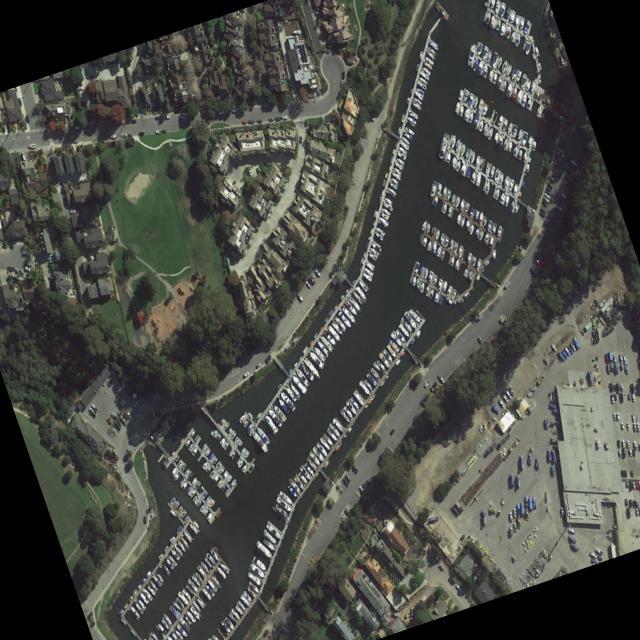large-vehicle: (550, 451, 557, 464), (480, 510, 486, 525), (567, 534, 575, 543), (519, 501, 524, 515), (518, 456, 523, 470), (545, 450, 551, 461), (514, 475, 519, 488), (531, 497, 536, 509), (523, 495, 528, 507), (515, 504, 520, 515), (543, 418, 548, 428), (570, 543, 577, 550), (528, 497, 532, 509), (534, 457, 538, 469), (527, 453, 531, 464), (550, 465, 554, 476), (509, 473, 512, 486)
ship: (250, 430, 268, 454), (303, 357, 321, 380), (436, 131, 450, 160), (254, 540, 273, 560), (289, 374, 306, 395), (278, 390, 295, 411), (307, 349, 323, 369), (326, 324, 342, 344), (254, 425, 270, 445), (433, 1, 449, 21), (263, 413, 278, 434), (264, 522, 281, 540), (294, 367, 309, 387), (341, 305, 356, 325), (275, 496, 292, 513), (249, 562, 265, 580), (337, 310, 352, 329), (267, 408, 282, 427), (261, 528, 277, 545), (251, 556, 267, 573), (246, 570, 262, 587), (402, 311, 417, 329), (318, 334, 333, 352), (300, 363, 314, 382), (272, 403, 286, 422), (343, 300, 358, 317), (273, 503, 288, 519), (465, 44, 475, 68), (389, 331, 403, 348), (322, 329, 336, 346), (347, 296, 361, 313), (307, 449, 320, 467), (400, 316, 413, 334), (310, 446, 324, 462), (278, 490, 292, 506), (377, 352, 390, 369), (321, 431, 334, 448), (315, 338, 328, 355), (312, 345, 325, 362), (276, 397, 289, 414), (354, 285, 367, 302), (261, 538, 275, 553), (357, 380, 370, 396), (351, 390, 364, 406), (344, 400, 357, 416), (331, 418, 344, 434), (327, 422, 340, 438), (314, 441, 327, 457), (397, 323, 410, 339), (333, 315, 346, 331), (330, 320, 343, 336), (298, 465, 311, 481), (325, 427, 338, 442), (175, 623, 188, 638), (338, 408, 350, 424), (387, 337, 399, 353), (408, 308, 420, 324), (394, 328, 406, 344), (288, 383, 300, 399), (351, 290, 363, 306), (292, 475, 304, 491), (289, 479, 301, 495), (186, 577, 198, 593), (369, 367, 381, 382), (365, 372, 377, 387), (342, 405, 354, 420), (318, 436, 330, 451), (284, 387, 296, 402), (195, 564, 207, 579), (178, 617, 190, 632), (176, 591, 188, 606), (203, 583, 215, 598), (381, 349, 393, 363), (305, 457, 317, 471), (247, 580, 259, 594), (238, 594, 250, 608), (189, 606, 200, 621), (141, 587, 152, 602), (375, 358, 386, 372), (385, 344, 396, 358), (303, 462, 314, 476), (296, 471, 307, 485), (286, 484, 297, 498), (223, 616, 234, 630), (210, 575, 221, 589), (199, 561, 210, 575), (205, 552, 216, 566), (208, 548, 219, 562), (215, 566, 226, 580), (229, 607, 240, 621), (168, 605, 179, 619), (174, 596, 185, 610), (178, 535, 189, 549), (220, 621, 231, 634), (218, 562, 229, 575), (161, 613, 172, 626), (206, 579, 217, 592), (129, 605, 139, 619), (133, 601, 143, 615), (147, 578, 157, 592), (176, 540, 186, 554), (428, 180, 436, 197), (490, 51, 498, 68), (426, 46, 438, 57), (349, 397, 359, 410), (363, 379, 373, 392), (156, 622, 166, 635), (242, 590, 252, 603), (236, 599, 246, 612), (185, 610, 195, 623), (191, 600, 201, 613), (181, 588, 191, 601), (173, 544, 183, 557), (169, 548, 179, 561), (194, 596, 204, 609), (190, 574, 200, 587), (201, 587, 211, 600), (181, 530, 191, 543), (448, 134, 456, 150), (488, 13, 496, 29), (504, 82, 512, 98), (522, 19, 530, 35), (523, 40, 531, 56), (519, 73, 527, 89), (520, 130, 528, 146), (486, 125, 494, 141), (374, 226, 385, 237), (357, 280, 367, 292), (203, 557, 213, 569), (246, 586, 256, 598), (233, 604, 243, 616), (173, 628, 183, 640), (136, 598, 146, 610), (138, 592, 148, 604), (171, 600, 181, 612), (146, 585, 156, 597), (167, 555, 177, 567), (184, 584, 194, 596), (508, 9, 516, 24), (503, 24, 511, 39), (514, 89, 522, 104), (475, 60, 483, 75), (475, 42, 483, 57), (480, 45, 488, 60), (499, 59, 507, 74), (483, 179, 490, 195), (453, 138, 460, 154), (458, 162, 466, 176), (476, 118, 484, 132), (498, 2, 505, 18), (476, 98, 483, 114), (534, 104, 542, 118), (513, 32, 520, 48), (418, 71, 429, 81), (378, 216, 388, 227), (227, 612, 236, 624), (161, 563, 170, 575), (194, 571, 203, 583), (246, 462, 255, 474), (188, 522, 197, 534), (502, 175, 509, 190), (474, 172, 481, 187), (458, 143, 465, 158), (468, 150, 475, 165), (478, 157, 485, 172), (471, 114, 478, 129), (484, 10, 491, 25), (498, 22, 505, 37), (520, 93, 527, 108), (495, 75, 502, 90), (466, 92, 473, 107), (471, 95, 478, 110), (501, 136, 508, 151), (481, 122, 489, 135), (363, 267, 373, 277), (361, 272, 371, 282), (416, 80, 426, 90), (428, 41, 438, 51), (386, 186, 396, 196), (390, 171, 400, 181), (393, 161, 403, 171), (404, 126, 414, 136), (369, 247, 379, 257), (370, 242, 380, 252), (371, 361, 380, 372), (160, 619, 169, 630), (152, 576, 161, 587), (164, 558, 173, 569), (400, 135, 409, 146), (507, 178, 514, 192), (492, 168, 499, 182), (454, 158, 461, 172), (456, 244, 463, 258), (430, 242, 437, 256), (474, 257, 481, 271), (462, 107, 469, 121), (493, 0, 500, 14), (494, 17, 501, 31), (481, 64, 488, 78), (471, 57, 478, 71), (461, 89, 468, 103), (517, 17, 524, 31), (495, 56, 502, 70), (504, 63, 511, 77), (509, 67, 516, 81), (505, 121, 512, 135), (511, 124, 518, 138), (491, 110, 498, 124), (427, 287, 434, 300), (423, 284, 430, 297), (418, 280, 425, 293), (497, 172, 504, 185), (493, 187, 500, 200), (511, 183, 518, 196), (488, 165, 495, 178), (433, 228, 440, 241), (458, 215, 465, 228), (413, 261, 420, 274), (495, 225, 502, 238), (510, 86, 517, 99), (500, 79, 507, 92), (481, 103, 488, 116), (511, 144, 518, 157), (525, 135, 532, 148), (364, 262, 373, 272), (149, 630, 158, 640), (423, 56, 433, 65), (411, 101, 420, 111), (407, 111, 417, 120), (382, 202, 392, 211), (398, 146, 407, 156), (406, 116, 416, 125), (373, 232, 383, 241), (238, 413, 246, 424), (155, 572, 163, 583), (228, 478, 236, 489), (174, 524, 182, 535), (445, 285, 452, 297), (436, 277, 442, 291), (498, 192, 505, 204), (463, 147, 469, 161), (486, 69, 493, 81), (513, 14, 519, 28), (525, 98, 532, 110), (529, 79, 535, 93), (485, 49, 491, 63), (496, 114, 503, 126), (501, 118, 507, 132), (425, 51, 434, 60), (413, 91, 422, 100), (415, 86, 424, 95), (418, 76, 427, 85), (421, 66, 430, 75), (422, 61, 431, 70), (413, 97, 422, 106), (383, 196, 392, 205), (388, 181, 397, 190), (389, 176, 398, 185), (396, 151, 405, 160), (399, 141, 408, 150), (241, 418, 249, 428), (172, 472, 180, 482), (190, 446, 198, 456), (245, 423, 253, 433), (182, 468, 190, 478), (180, 480, 188, 490), (193, 480, 201, 490), (437, 293, 443, 306), (431, 274, 437, 287), (503, 194, 509, 207), (464, 166, 470, 179), (458, 199, 464, 212), (439, 248, 445, 261), (448, 238, 454, 251), (422, 267, 428, 280), (468, 223, 474, 236), (477, 211, 483, 224), (477, 229, 483, 242), (486, 219, 492, 232), (490, 222, 496, 235), (524, 79, 530, 92), (509, 29, 515, 42), (515, 70, 521, 83), (516, 128, 522, 141), (521, 150, 527, 163), (425, 240, 432, 251), (488, 0, 495, 11), (222, 420, 229, 431), (497, 134, 503, 146), (441, 280, 447, 292), (445, 189, 451, 201), (432, 195, 438, 207), (441, 202, 447, 214), (458, 105, 464, 117), (453, 101, 459, 113), (445, 151, 451, 163), (450, 156, 456, 168), (474, 155, 480, 167), (469, 170, 475, 182), (452, 242, 458, 254), (438, 233, 444, 245), (435, 245, 441, 257), (420, 219, 426, 231), (465, 252, 471, 264), (467, 111, 473, 123), (169, 632, 178, 640), (169, 467, 177, 476), (175, 505, 183, 514), (504, 6, 510, 18), (380, 212, 388, 221), (491, 72, 497, 84), (457, 89, 463, 101), (533, 45, 539, 57), (368, 252, 376, 261), (492, 131, 498, 143), (414, 328, 421, 338), (221, 470, 228, 480), (217, 465, 224, 475), (214, 460, 221, 470), (203, 447, 210, 457), (200, 442, 207, 452), (215, 478, 222, 488), (212, 474, 219, 484), (208, 469, 215, 479), (229, 430, 236, 440), (201, 460, 208, 470), (179, 462, 186, 472), (168, 534, 175, 544), (190, 476, 197, 486), (200, 490, 207, 500), (198, 503, 205, 513), (208, 498, 215, 508), (205, 512, 212, 522), (172, 500, 179, 510), (179, 509, 186, 519), (450, 289, 456, 300), (455, 213, 461, 224), (446, 206, 452, 217), (463, 202, 469, 213), (421, 236, 427, 247), (453, 259, 459, 270), (470, 256, 476, 267), (473, 227, 479, 238), (516, 149, 522, 160), (506, 141, 512, 152), (436, 183, 441, 196), (484, 162, 489, 175), (444, 297, 452, 305), (168, 509, 176, 517), (393, 167, 401, 175), (395, 157, 403, 165), (403, 132, 411, 140), (381, 207, 389, 215), (184, 616, 191, 625), (246, 411, 253, 420), (225, 474, 232, 483), (192, 434, 199, 443), (172, 454, 179, 463), (255, 411, 262, 420), (218, 437, 225, 446), (239, 446, 246, 455), (236, 459, 243, 468), (242, 450, 249, 459), (240, 463, 247, 472), (144, 569, 151, 578), (192, 519, 199, 528), (182, 515, 189, 524), (188, 489, 195, 498), (204, 495, 211, 504), (415, 277, 420, 289), (509, 199, 514, 211), (441, 186, 446, 198), (454, 196, 459, 208), (427, 271, 432, 283), (418, 266, 424, 276), (169, 496, 175, 506), (399, 113, 405, 123), (210, 633, 218, 640), (214, 433, 221, 441), (229, 450, 236, 458), (236, 440, 243, 448), (433, 291, 438, 302), (411, 275, 416, 286), (513, 203, 518, 214), (450, 193, 455, 204), (430, 226, 435, 237), (449, 255, 454, 266), (443, 237, 448, 248), (425, 222, 430, 233), (464, 219, 469, 230), (473, 210, 478, 221), (468, 207, 473, 218), (482, 216, 487, 227), (491, 248, 496, 259), (467, 269, 472, 280), (531, 140, 536, 151), (219, 483, 225, 492), (189, 429, 195, 438), (187, 442, 193, 451), (184, 438, 190, 447), (176, 458, 182, 467), (222, 441, 228, 450), (233, 435, 239, 444), (127, 594, 133, 603), (131, 588, 137, 597), (157, 552, 163, 561), (202, 507, 208, 516), (226, 426, 232, 435), (483, 233, 488, 243), (417, 233, 422, 243), (480, 264, 485, 274), (524, 163, 529, 173), (456, 297, 463, 304), (483, 259, 490, 266), (208, 452, 214, 460), (223, 488, 229, 496), (211, 457, 217, 465), (205, 465, 211, 473), (117, 608, 123, 616), (185, 486, 191, 494), (195, 499, 201, 507), (409, 338, 415, 345), (482, 0, 488, 7), (135, 583, 141, 590), (139, 577, 145, 584), (462, 268, 467, 276), (192, 495, 197, 503), (396, 126, 401, 134), (276, 382, 281, 390), (163, 545, 168, 553), (489, 236, 493, 245), (540, 113, 544, 122), (418, 50, 422, 59), (165, 635, 172, 640), (536, 78, 541, 85), (537, 62, 541, 70), (517, 190, 521, 198), (405, 97, 409, 105), (147, 635, 153, 640), (528, 34, 533, 40), (312, 332, 317, 338), (287, 368, 292, 374), (287, 477, 291, 483), (489, 100, 493, 104)
small-vehicle: (572, 337, 580, 349), (557, 351, 565, 361), (436, 373, 444, 383), (119, 415, 127, 425), (561, 349, 568, 359), (306, 277, 313, 287), (497, 398, 504, 408), (507, 386, 514, 396), (503, 280, 510, 290), (246, 165, 252, 176), (558, 54, 564, 65), (594, 547, 602, 555), (341, 477, 348, 486), (304, 280, 311, 289), (296, 292, 303, 301), (308, 275, 315, 284), (343, 474, 350, 483), (357, 485, 364, 494), (491, 404, 498, 413), (504, 389, 511, 398), (351, 464, 358, 473), (124, 409, 131, 418), (90, 403, 97, 412), (88, 407, 95, 416), (570, 159, 577, 167), (566, 344, 572, 353), (502, 393, 508, 402), (476, 335, 482, 344), (620, 439, 625, 449), (618, 354, 623, 364), (614, 383, 619, 393), (613, 363, 618, 373), (605, 363, 610, 373), (547, 175, 554, 182), (560, 193, 567, 200), (242, 370, 249, 377), (367, 114, 374, 121), (589, 551, 596, 558), (556, 147, 563, 154), (569, 342, 575, 350), (565, 292, 571, 300), (571, 285, 577, 293), (576, 278, 582, 286), (535, 259, 541, 267), (537, 257, 543, 265), (542, 195, 548, 203), (545, 185, 551, 193), (546, 182, 552, 190), (314, 268, 320, 276), (387, 619, 393, 627), (550, 343, 556, 351), (454, 583, 460, 591), (423, 379, 429, 387), (13, 266, 19, 274), (609, 394, 614, 403), (559, 507, 564, 516), (20, 151, 25, 160), (539, 207, 545, 214), (543, 192, 549, 199), (544, 189, 550, 196), (556, 205, 562, 212), (255, 362, 261, 369), (314, 9, 321, 15), (567, 527, 574, 533), (475, 315, 481, 322), (437, 564, 443, 571), (388, 428, 394, 435), (556, 151, 562, 158), (635, 423, 640, 431), (618, 394, 623, 402), (625, 509, 630, 517), (564, 347, 569, 355), (142, 515, 146, 525), (508, 512, 512, 522), (28, 143, 36, 148), (615, 412, 619, 421), (611, 412, 615, 421), (631, 413, 635, 422), (622, 354, 626, 363), (631, 393, 635, 402), (625, 422, 629, 431), (632, 441, 636, 450), (634, 481, 638, 490), (631, 481, 635, 490), (624, 479, 628, 488), (538, 211, 544, 217), (608, 383, 612, 392), (604, 354, 608, 363), (608, 364, 612, 373), (624, 365, 628, 374), (110, 458, 116, 464), (111, 455, 117, 461), (512, 523, 516, 532), (512, 508, 516, 517), (19, 268, 23, 277), (24, 266, 30, 272), (230, 108, 237, 113), (217, 110, 224, 115), (120, 133, 127, 138), (109, 134, 116, 139), (420, 400, 425, 407), (73, 125, 80, 130), (6, 265, 13, 270), (619, 421, 623, 429), (632, 422, 636, 430), (625, 440, 629, 448), (635, 500, 639, 508), (628, 448, 632, 456), (629, 384, 633, 392), (273, 117, 281, 121), (255, 167, 259, 175), (340, 71, 344, 79), (339, 79, 343, 87), (21, 251, 29, 255), (637, 480, 640, 490), (240, 120, 246, 125), (281, 115, 287, 120), (69, 209, 75, 214), (154, 115, 160, 120), (619, 384, 623, 391), (630, 449, 634, 456), (615, 440, 619, 447), (622, 470, 626, 477), (619, 470, 623, 477), (631, 500, 635, 507), (247, 119, 254, 123), (153, 130, 160, 134), (391, 612, 398, 616), (24, 262, 31, 266), (72, 139, 77, 144), (635, 508, 638, 516), (612, 354, 615, 362), (623, 498, 626, 506), (628, 499, 631, 507), (179, 115, 185, 119), (164, 115, 170, 119), (110, 451, 116, 455), (77, 86, 83, 90), (45, 256, 51, 260), (126, 133, 132, 137), (123, 120, 129, 124), (130, 118, 136, 122), (160, 129, 166, 133), (618, 450, 621, 457), (613, 394, 616, 401), (629, 470, 632, 477), (137, 132, 144, 135), (238, 108, 243, 112), (612, 386, 615, 392), (256, 119, 262, 122), (267, 118, 273, 121), (299, 135, 301, 144), (48, 276, 54, 279), (638, 442, 640, 450), (638, 508, 640, 515)
